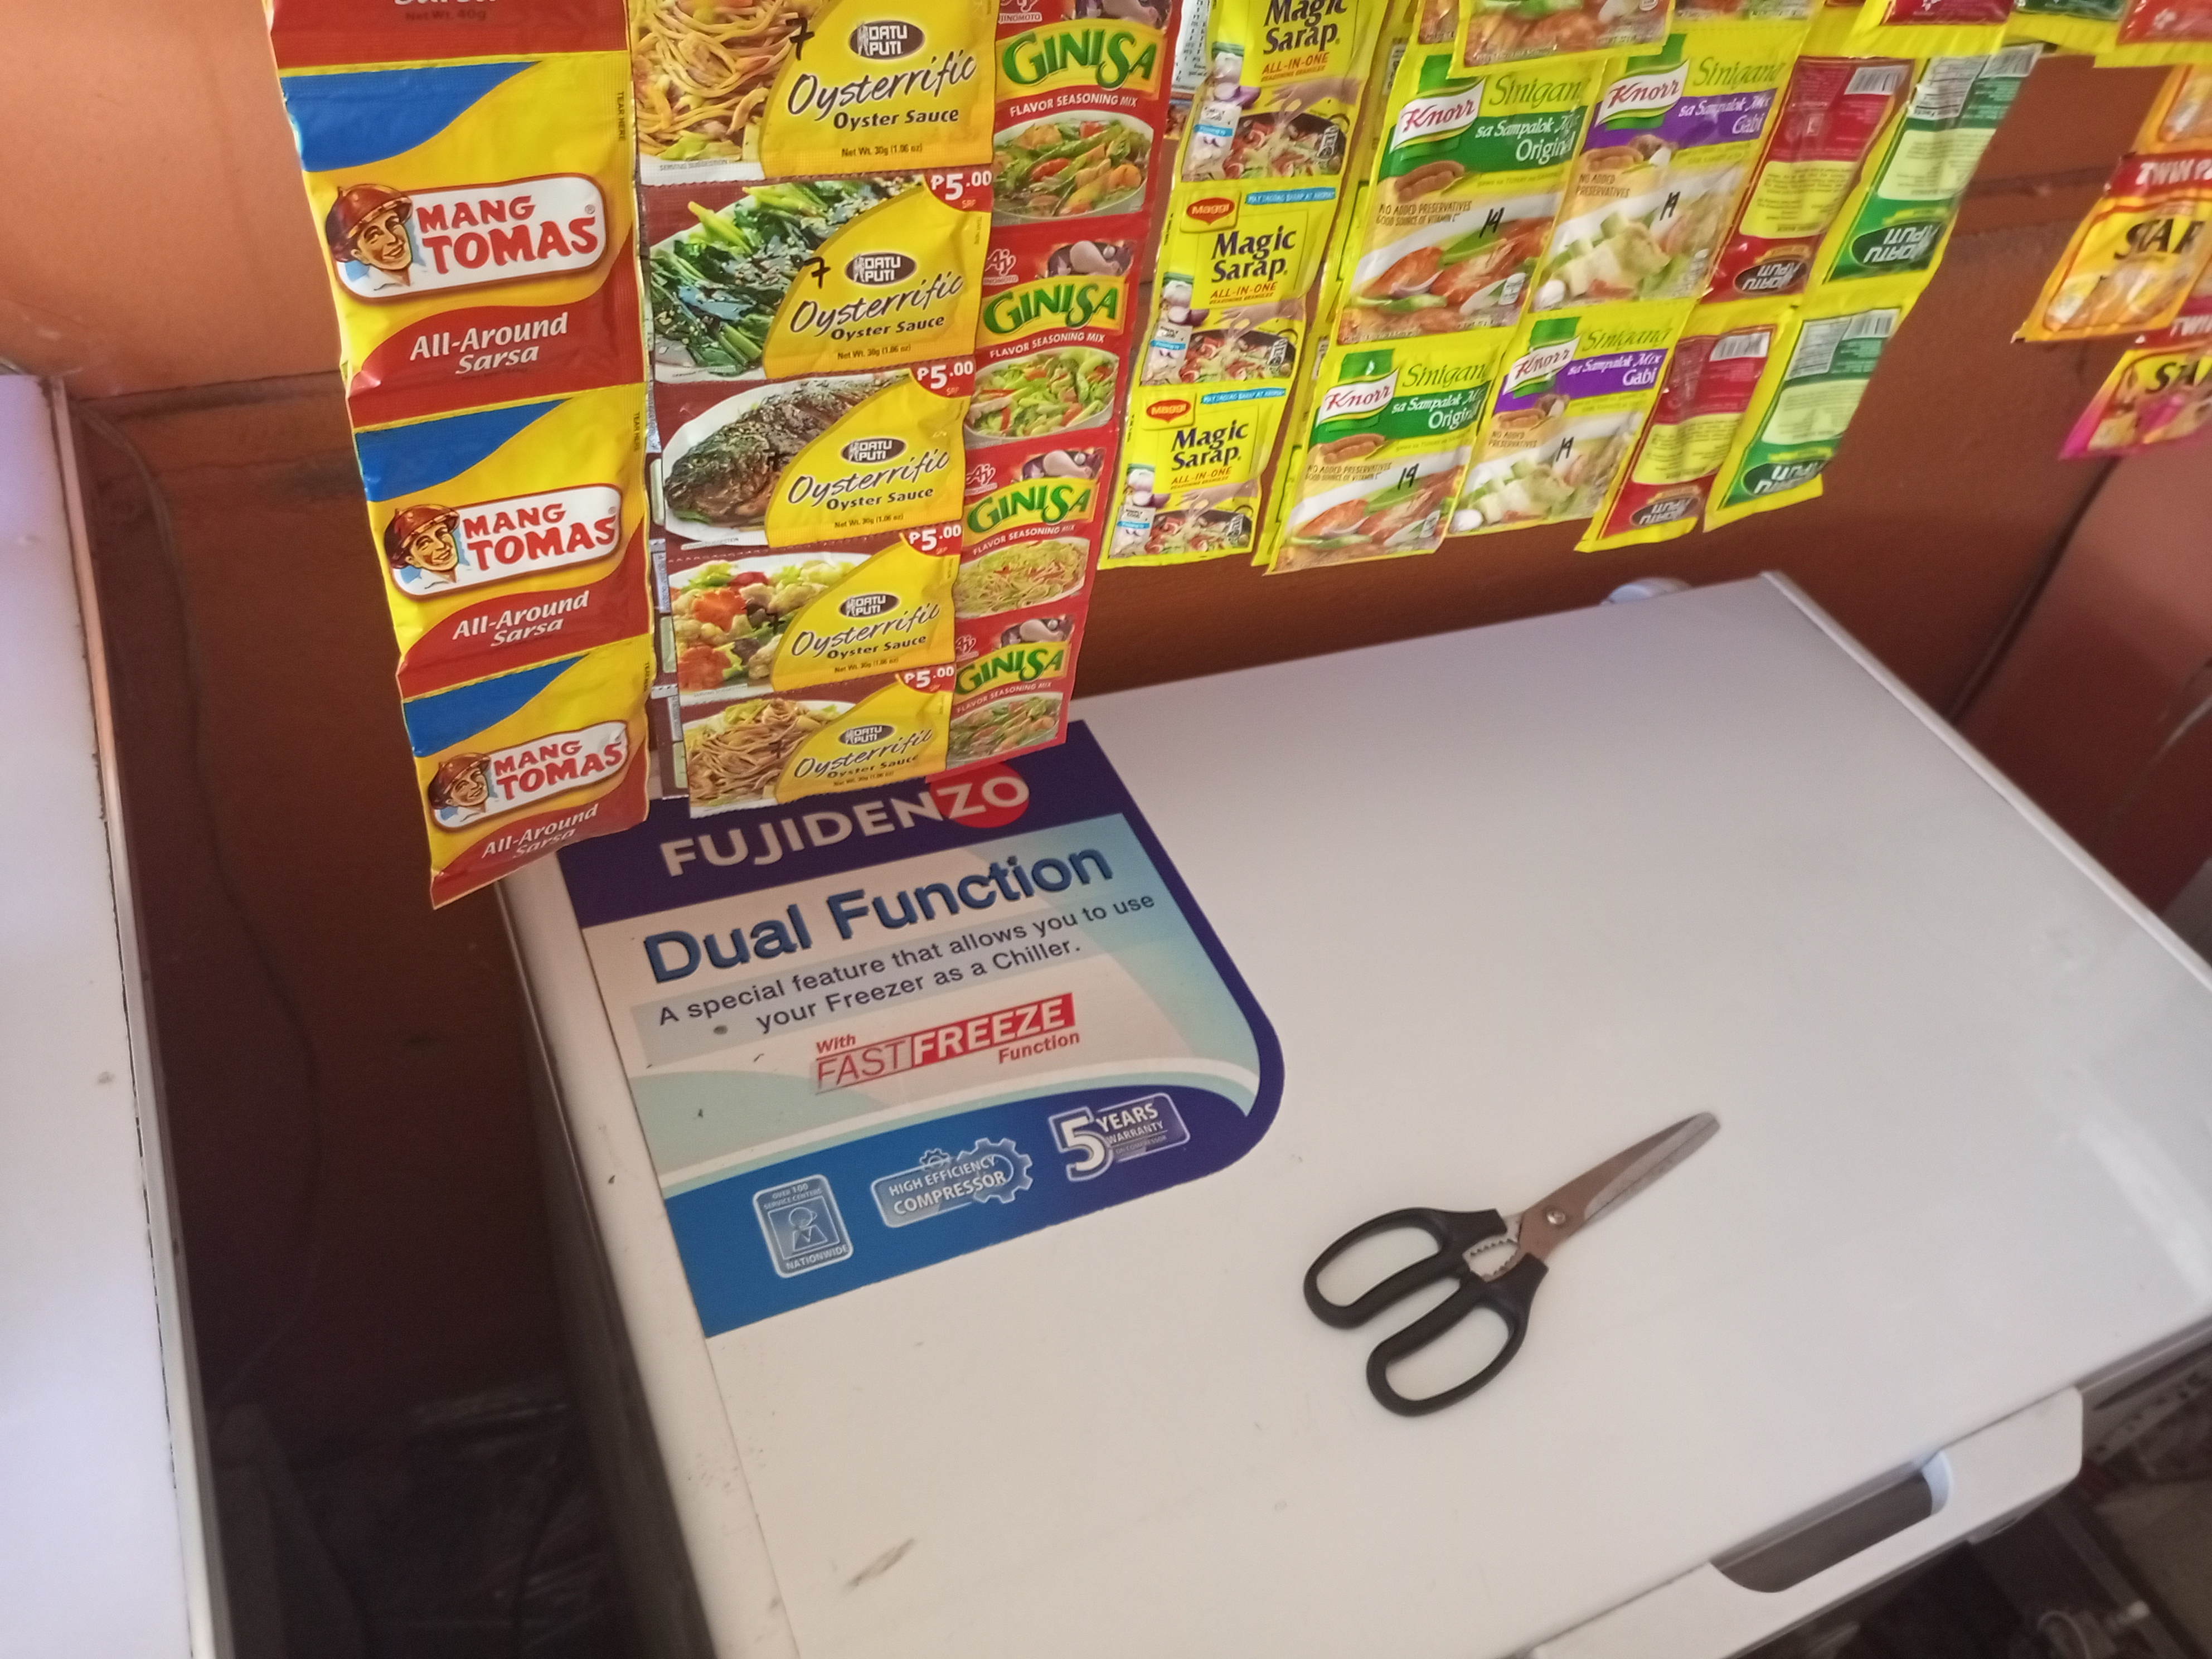scissor: (1343, 1105, 1726, 1422)
